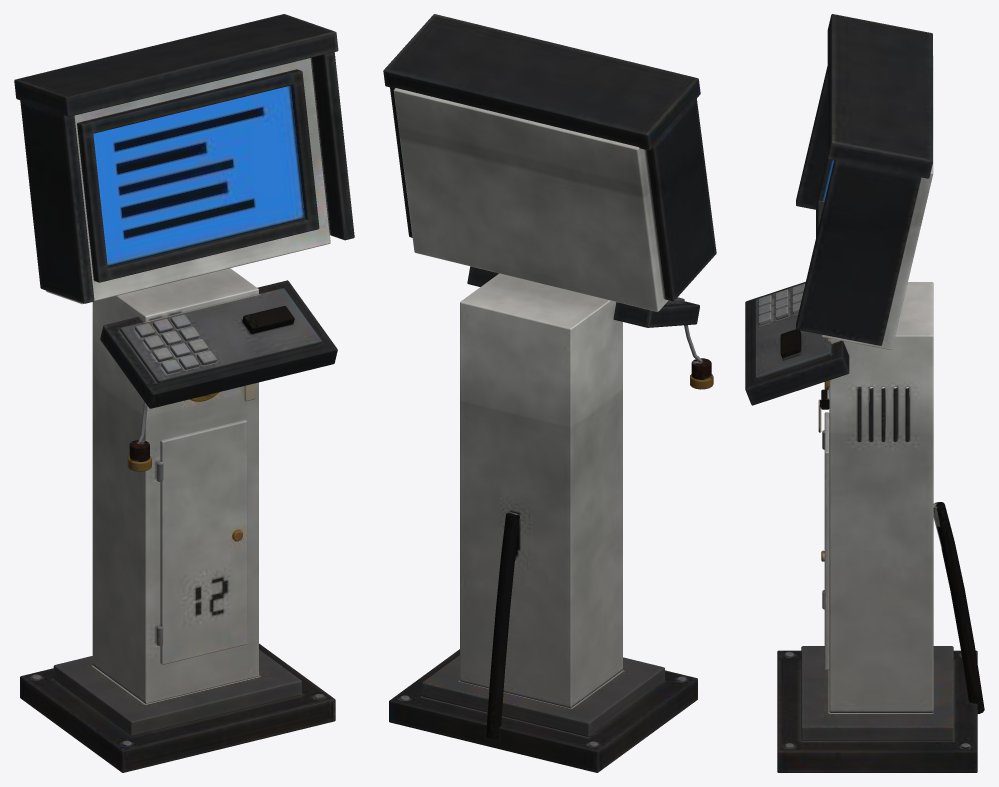
Rendered from terminal_kiosk.glb.
3 renders of one model, left to right at view 1: azimuth 30°, elevation 25°; view 2: azimuth 150°, elevation 25°; view 3: azimuth 270°, elevation 25°, orthographic. The views are drawn at different scales.
Visible parts, largest first — view 1: terminal_kiosk; view 2: terminal_kiosk; view 3: terminal_kiosk.
Boxes of the visible parts, <box> form: terminal_kiosk: <box>14,14,354,772</box>; terminal_kiosk: <box>383,14,716,772</box>; terminal_kiosk: <box>745,14,984,772</box>.
Bounding box in the file's own units: 0.76 × 1.78 × 0.597.
Materials: 1 (1 with a texture image).
